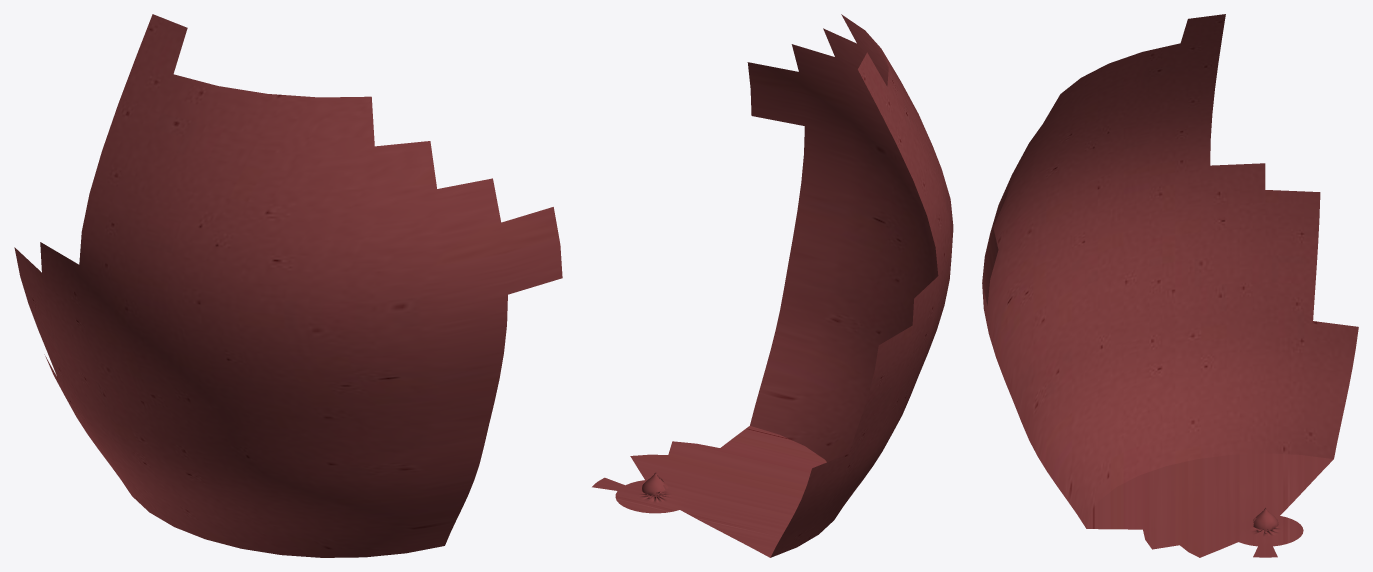
File: falsevase2.FBX
3 views of the same model, side by side, from view 1: azimuth 30°, elevation 25°; view 2: azimuth 150°, elevation 25°; view 3: azimuth 270°, elevation 25° (orthographic). The views are drawn at different scales.
Parts seen in each view (by area): view 1: Object001; view 2: Object001; view 3: Object001.
Boxes of the visible parts, box(x1,y1,x2,y2) form: Object001: box(14, 14, 562, 557); Object001: box(592, 14, 953, 557); Object001: box(982, 14, 1358, 557).
Bounding box in the file's own units: 1429 × 1955 × 1543.
Materials: 1 (1 with a texture image).
